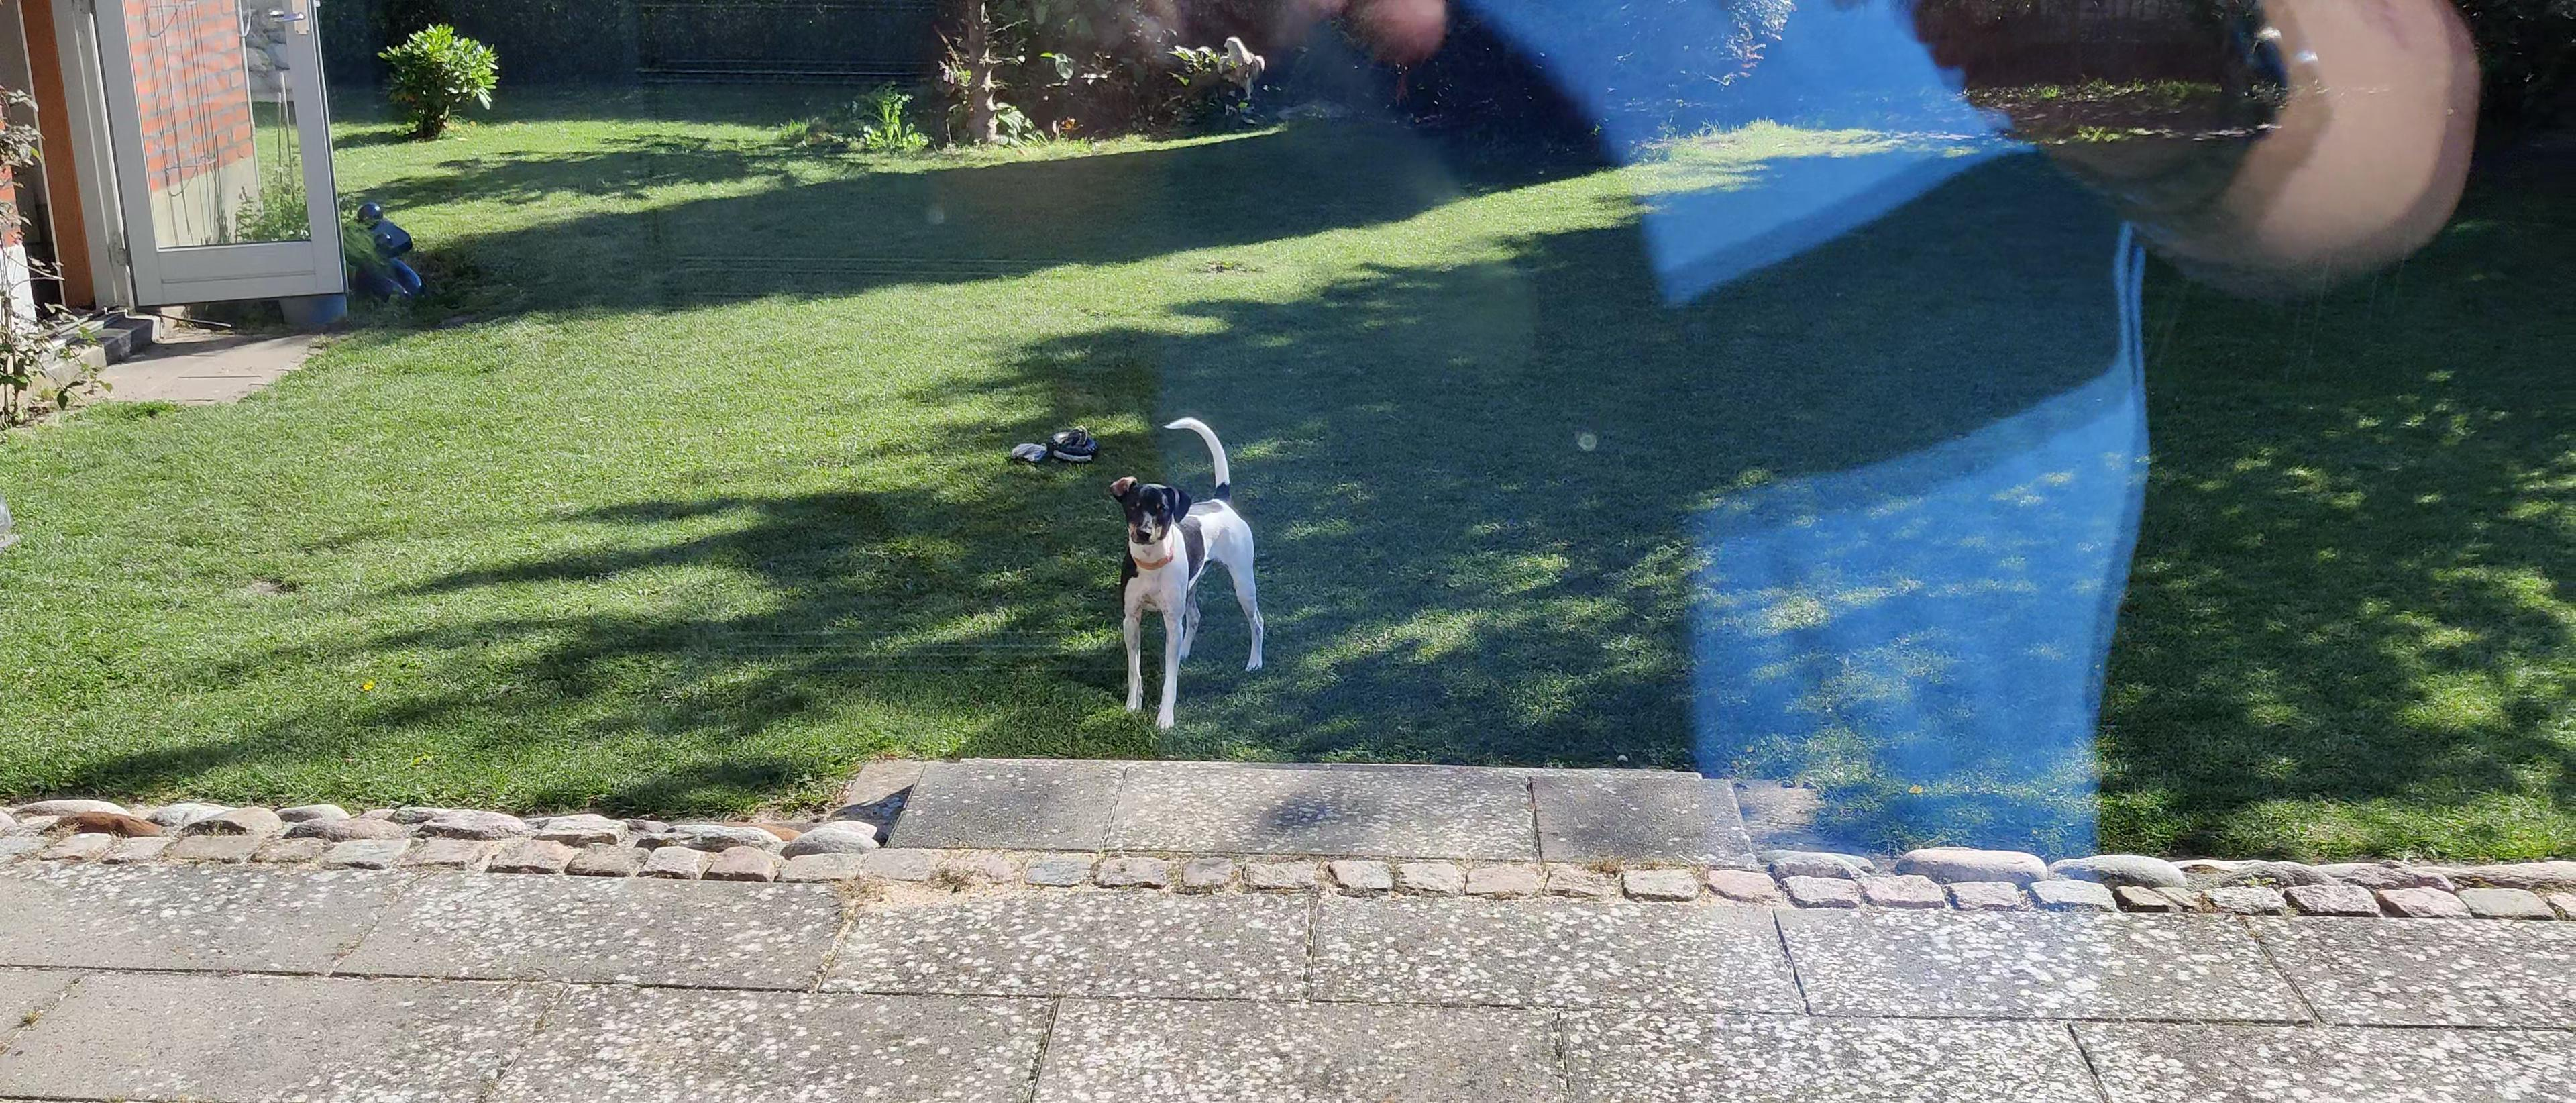Dog: (1102, 413, 1267, 736)
